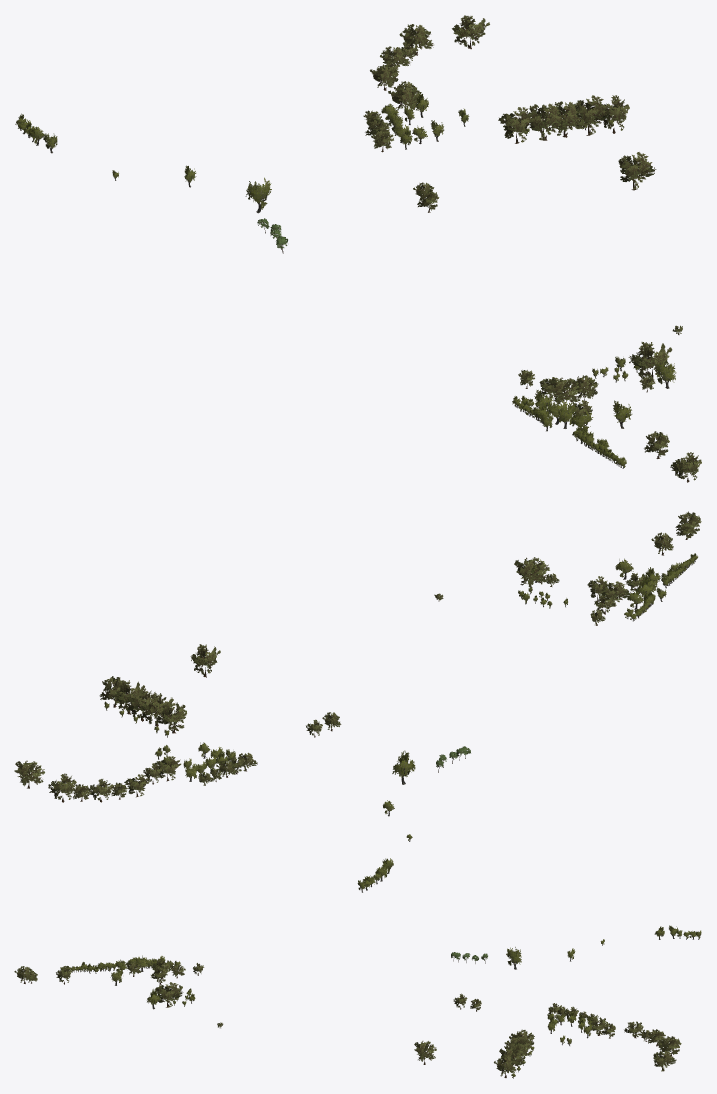
3 views of the same model, one above another, from view 1: azimuth 30°, elevation 25°; view 2: azimuth 150°, elevation 25°; view 3: azimuth 270°, elevation 25° (orthographic). The views are drawn at different scales.
Visible parts, largest first — view 1: jacaranda_tree street foliage, island_tree_01 street foliage, island_tree_01 park bark; view 2: jacaranda_tree street foliage, island_tree_01 street foliage; view 3: jacaranda_tree street foliage, island_tree_01 street foliage, island_tree_01 park bark.
Boxes of the visible parts, bbox=[...] form: jacaranda_tree street foliage: bbox=[363, 15, 701, 480]; island_tree_01 street foliage: bbox=[15, 92, 676, 467]; island_tree_01 park bark: bbox=[20, 105, 669, 468]; jacaranda_tree street foliage: bbox=[14, 511, 701, 800]; island_tree_01 street foliage: bbox=[104, 553, 697, 889]; jacaranda_tree street foliage: bbox=[14, 958, 681, 1076]; island_tree_01 street foliage: bbox=[60, 925, 701, 1077]; island_tree_01 park bark: bbox=[69, 932, 700, 1078].
Size of the model in its own units: 267 by 21.35 by 534.
Materials: 6 (6 with a texture image).
